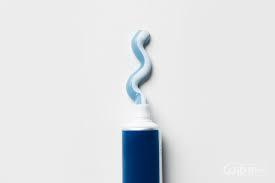toothpaste: (119, 100, 172, 183)
